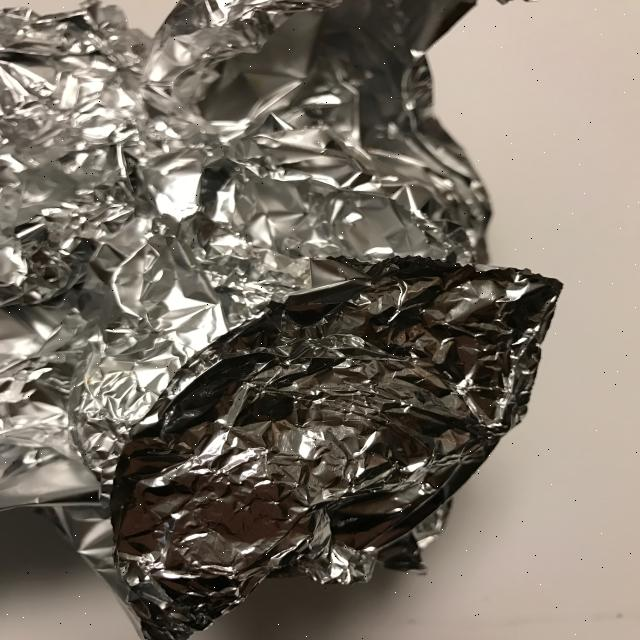metal: (1, 1, 562, 638)
